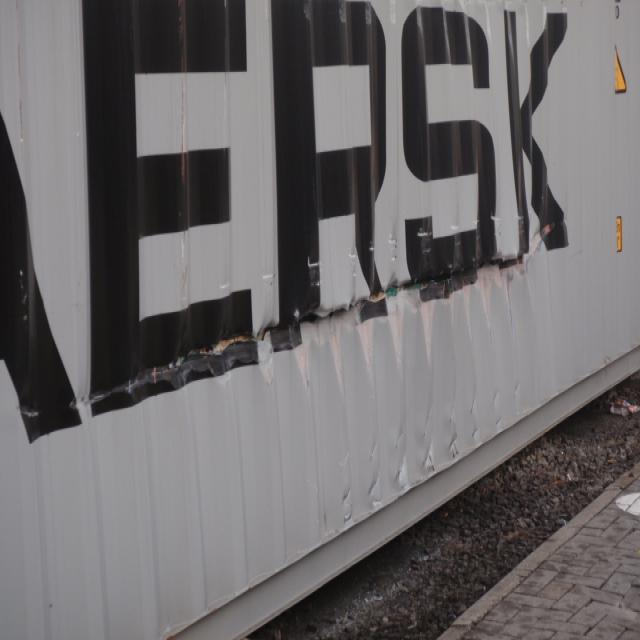dent: (529, 221, 558, 263), (342, 484, 355, 522), (393, 454, 406, 492), (369, 474, 383, 508), (420, 442, 434, 473), (449, 436, 461, 457), (470, 427, 478, 448), (495, 417, 502, 435)
